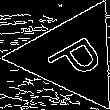P_NE: (36, 27, 108, 86)
